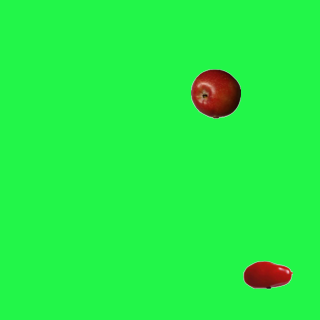Apple Braeburn: (190, 68, 240, 118)
Tomato 2: (242, 249, 292, 299)
